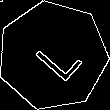L_NW: (24, 27, 82, 84)
